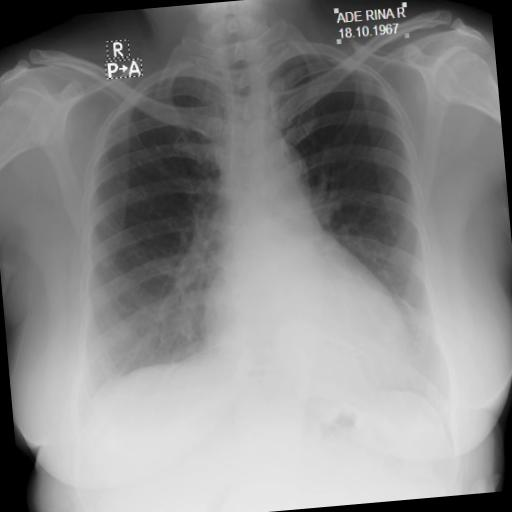kardiomegali: (32, 24, 460, 464)
